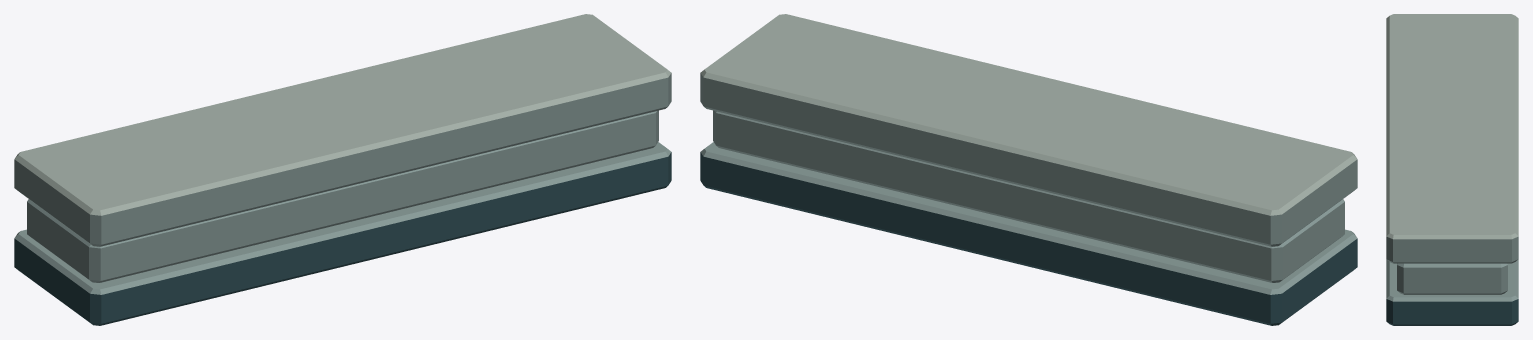
The model's file is wall-low.glb.
3 views of the same model, side by side, from view 1: azimuth 30°, elevation 25°; view 2: azimuth 150°, elevation 25°; view 3: azimuth 270°, elevation 25° (orthographic). The views are drawn at different scales.
Parts seen in each view (by area): view 1: wall-low__body; view 2: wall-low__body; view 3: wall-low__body.
Boxes of the visible parts, x1,y1,x2,y2 form: wall-low__body: (14, 14, 671, 325); wall-low__body: (700, 14, 1357, 325); wall-low__body: (1386, 14, 1518, 325).
Bounding box in the file's own units: 2 × 0.38 × 0.5.
